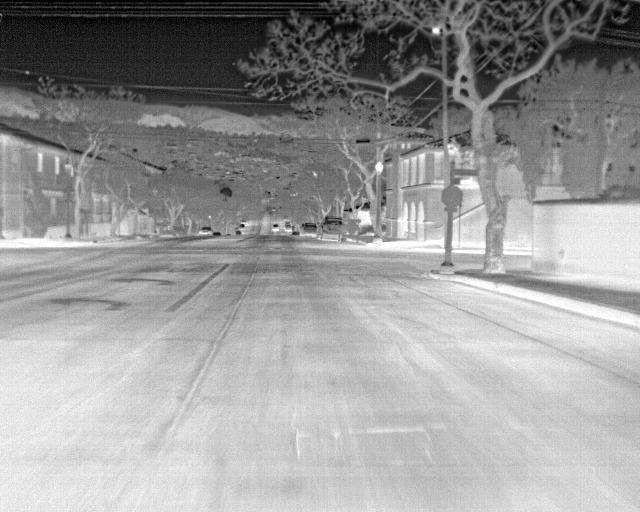car: (317, 216, 346, 240), (300, 223, 318, 237), (200, 226, 213, 236), (285, 224, 292, 231), (273, 224, 279, 231), (236, 230, 241, 235), (240, 224, 245, 228)
light: (453, 178, 460, 184)
sign: (442, 186, 463, 207), (346, 220, 361, 235), (454, 169, 478, 175), (444, 207, 457, 211)
